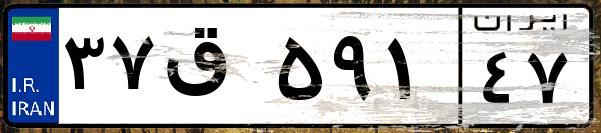1: (385, 28, 445, 110)
3: (57, 26, 110, 100)
4: (475, 38, 525, 113)
5: (270, 28, 330, 110)
7: (525, 38, 570, 115), (110, 28, 158, 98)
9: (330, 28, 385, 110)
ق: (158, 20, 270, 120)
